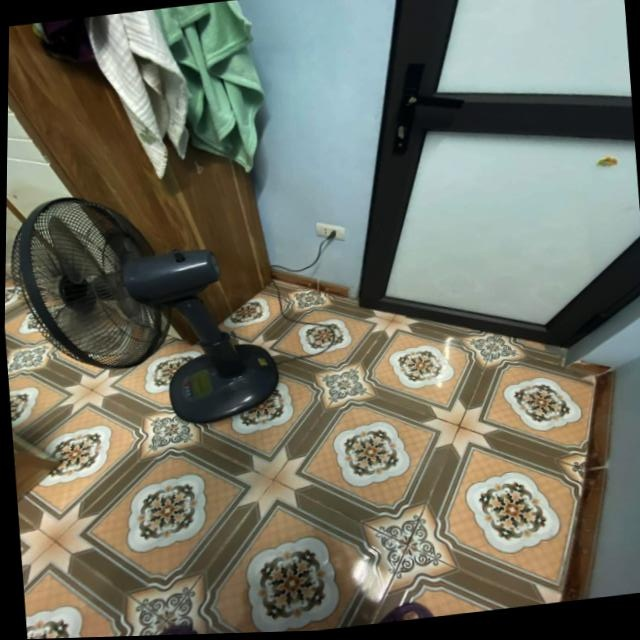outlet: (314, 220, 346, 246)
